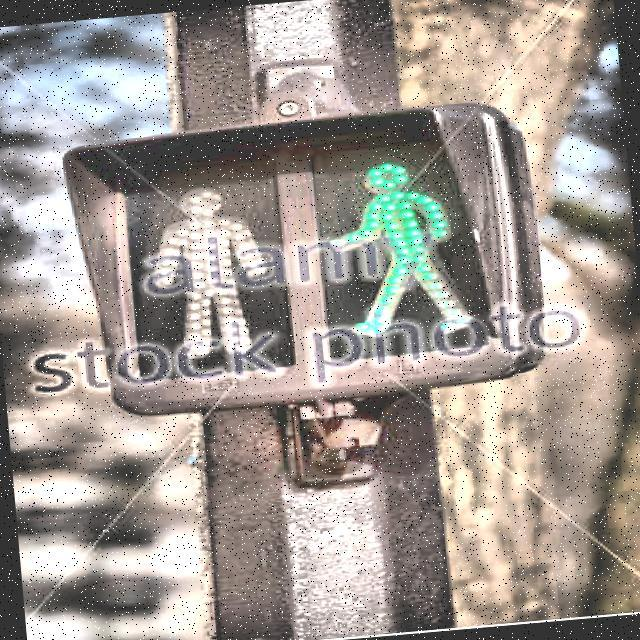green_light: (316, 148, 484, 350)
